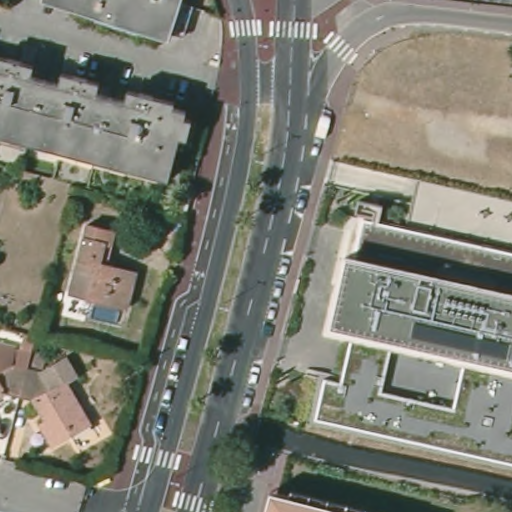pool: (86, 303, 123, 327)
